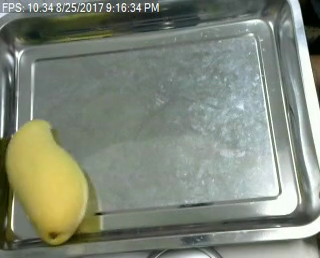Mango: (2, 120, 93, 246)
